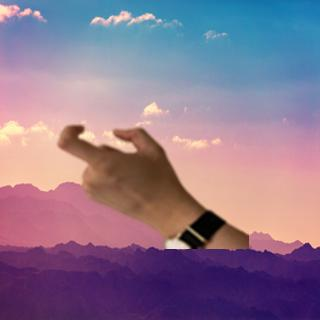HATE: (51, 120, 187, 225)
